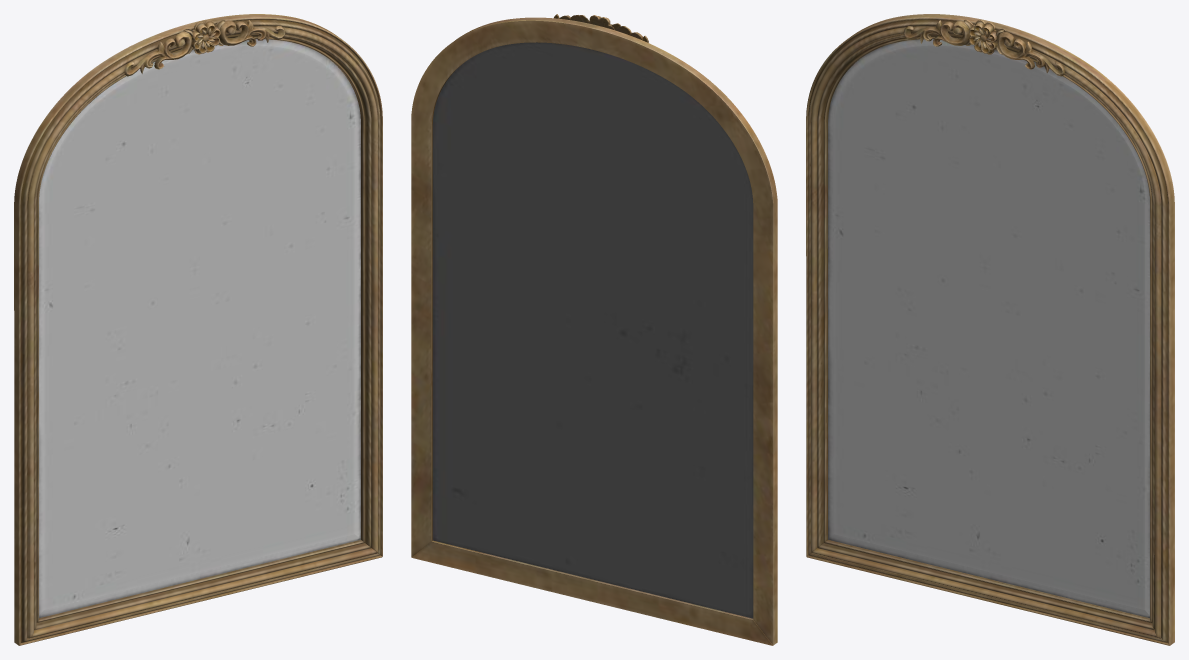
File: ph_ornate_mirror_01.glb
The picture shows the model from 3 angles, left to right: view 1: azimuth 30°, elevation 25°; view 2: azimuth 150°, elevation 25°; view 3: azimuth 330°, elevation 25°; orthographic projection.
Visible parts, largest first — view 1: ornate_mirror_01; view 2: ornate_mirror_01; view 3: ornate_mirror_01.
Part boxes in pixels (x1,y1,x2,y2): ornate_mirror_01: (14,14,382,645); ornate_mirror_01: (411,14,777,645); ornate_mirror_01: (806,14,1174,645).
Size of the model in its own units: 0.4865 by 0.7442 by 0.026.
Materials: 1 (1 with a texture image).
